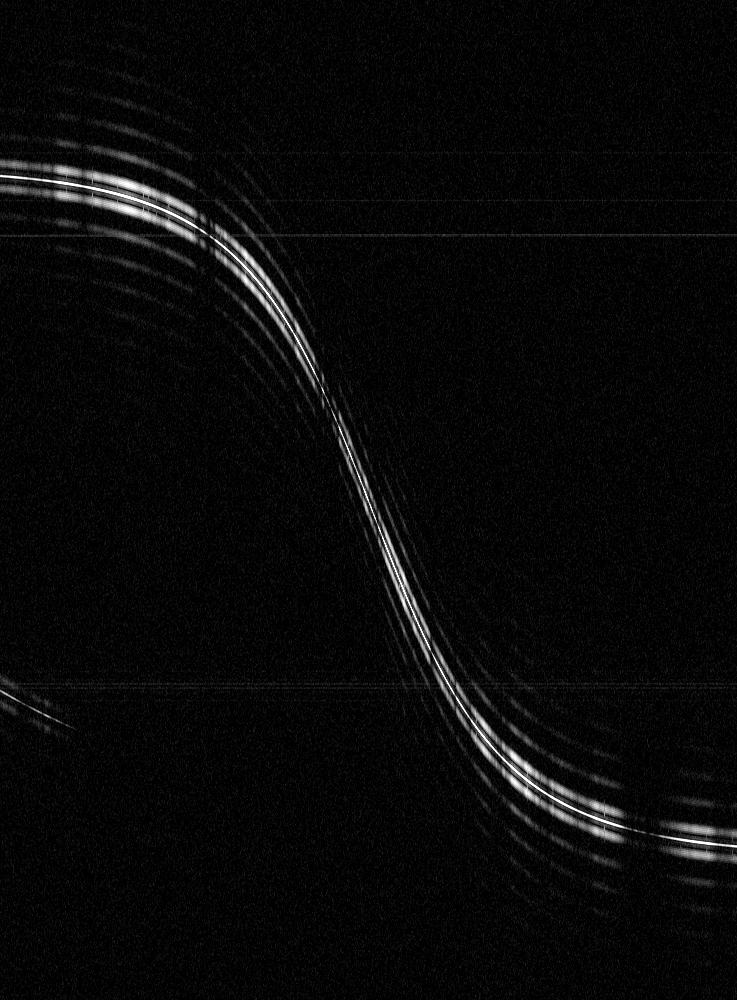signal: (0, 0, 736, 999)
